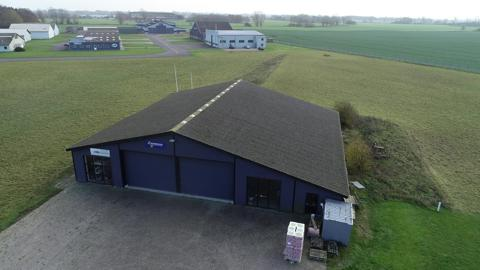RockwoolPallet: (284, 221, 306, 263)
